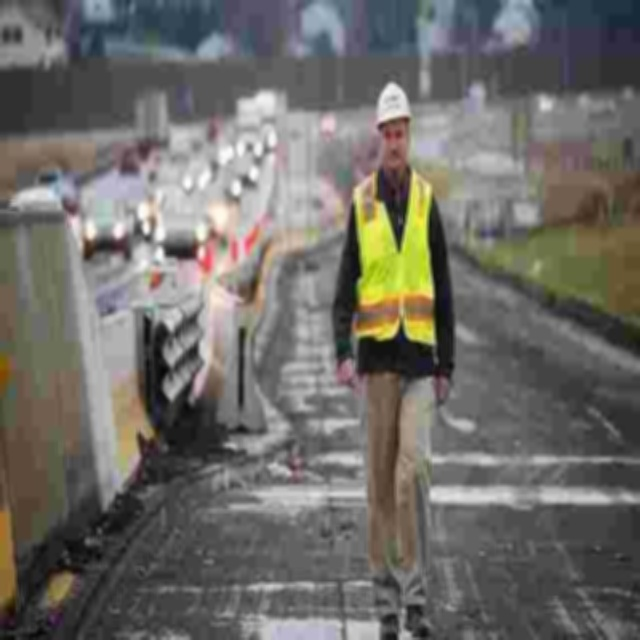Con_Casco: (373, 77, 411, 169)
Con_Chaleco: (353, 179, 438, 356)
